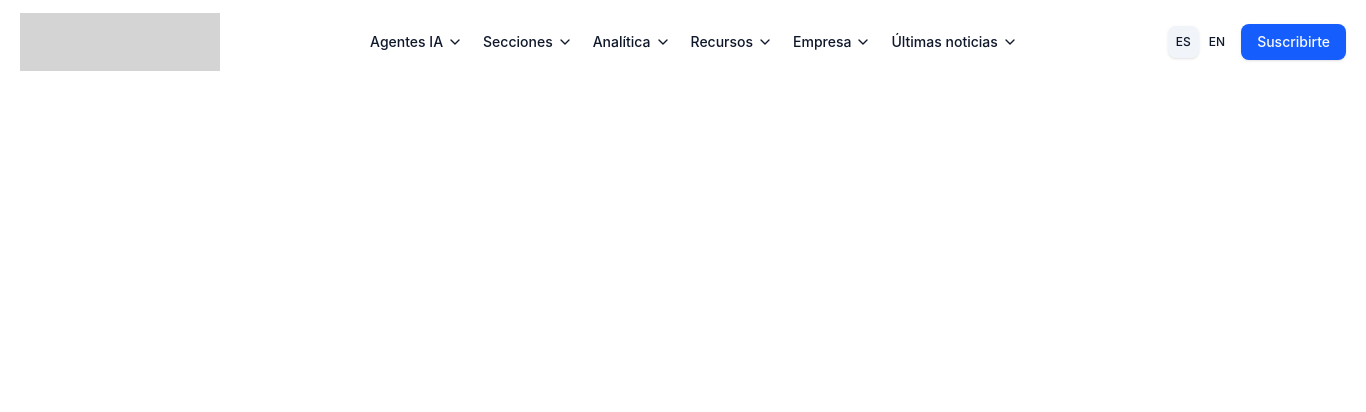
Header dropdowns › opens and closes Recursos
The image size is (1366, 412).
Click the button "Recursos". click: (732, 42)
box: [682,24,781,60]
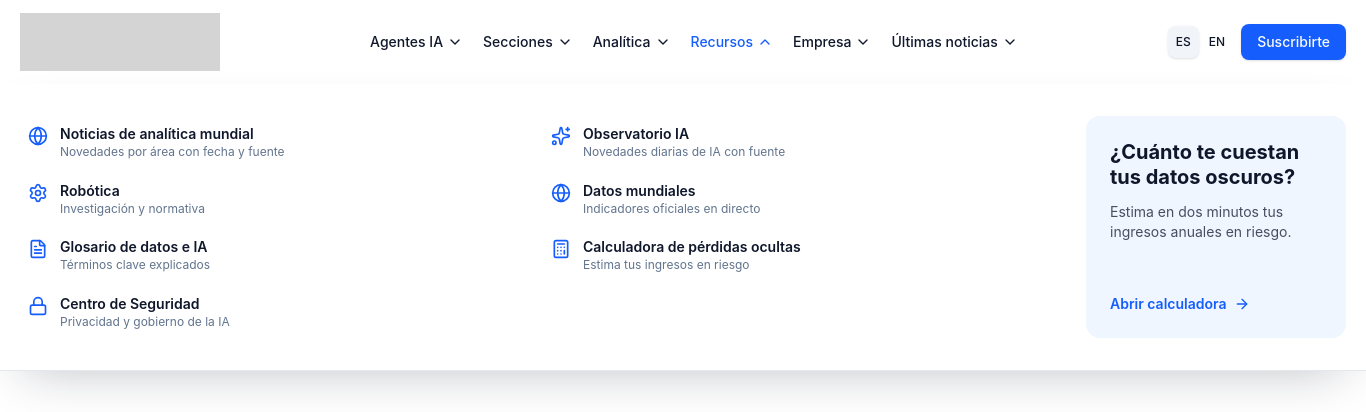
Check: the button "Recursos" is expanded, box [682,24,781,60]
Check: the link that starts with "Noticias de analítica mundial" is shown, box [28,125,285,159]
Press Escape
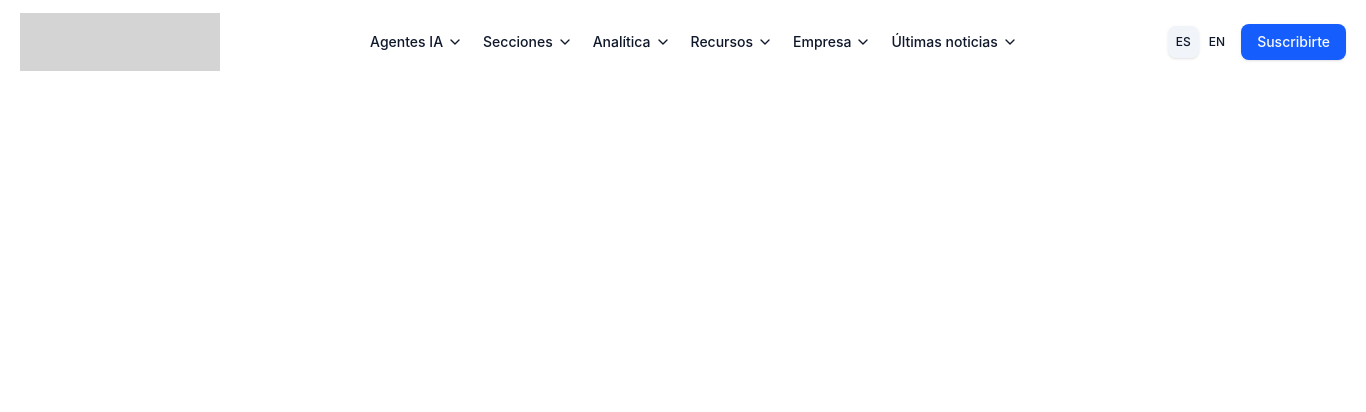
Check: the button "Recursos" is collapsed, box [682,24,781,60]
